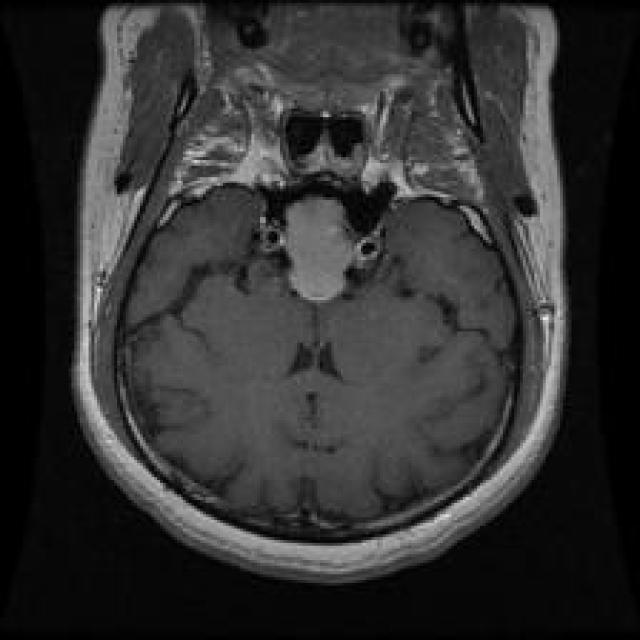pituitary_tumor: (256, 188, 382, 315)
